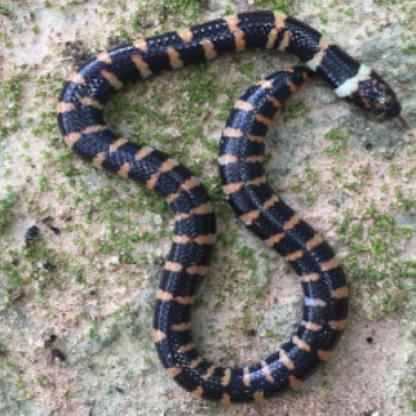Snake: (54, 9, 392, 394)
